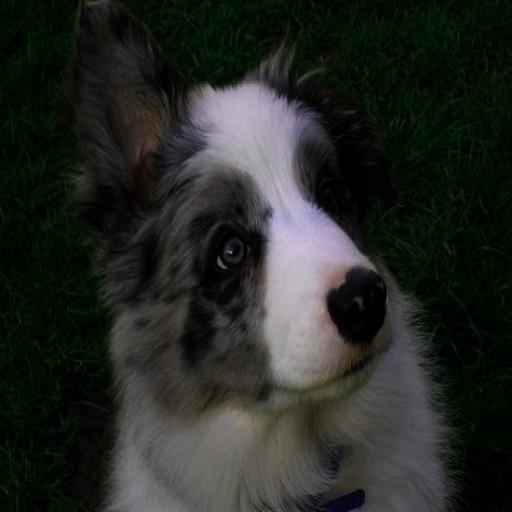dog_face: (62, 5, 417, 394)
